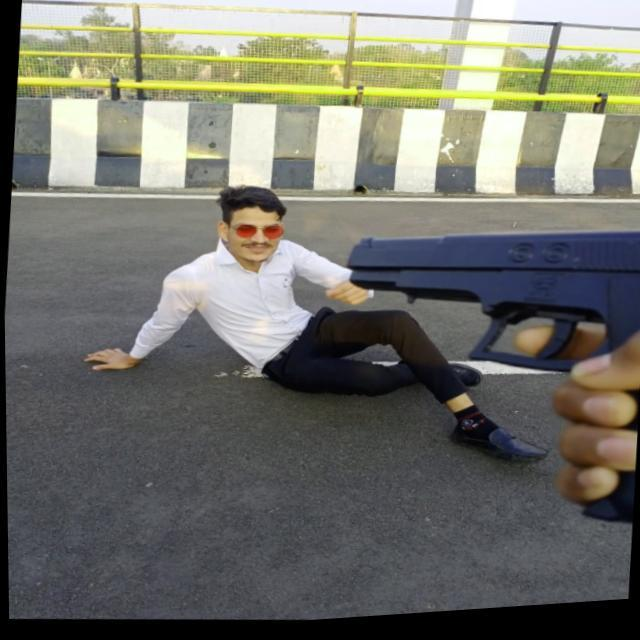weapon: (321, 216, 640, 564)
